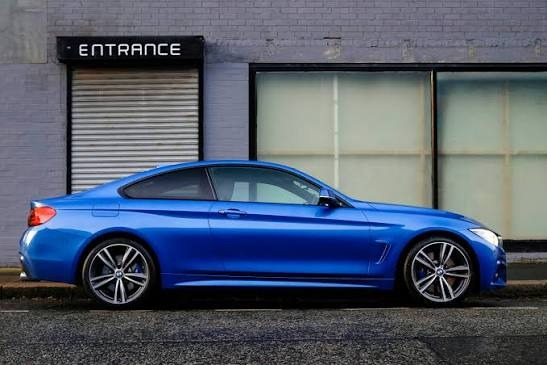car: (21, 158, 508, 313)
